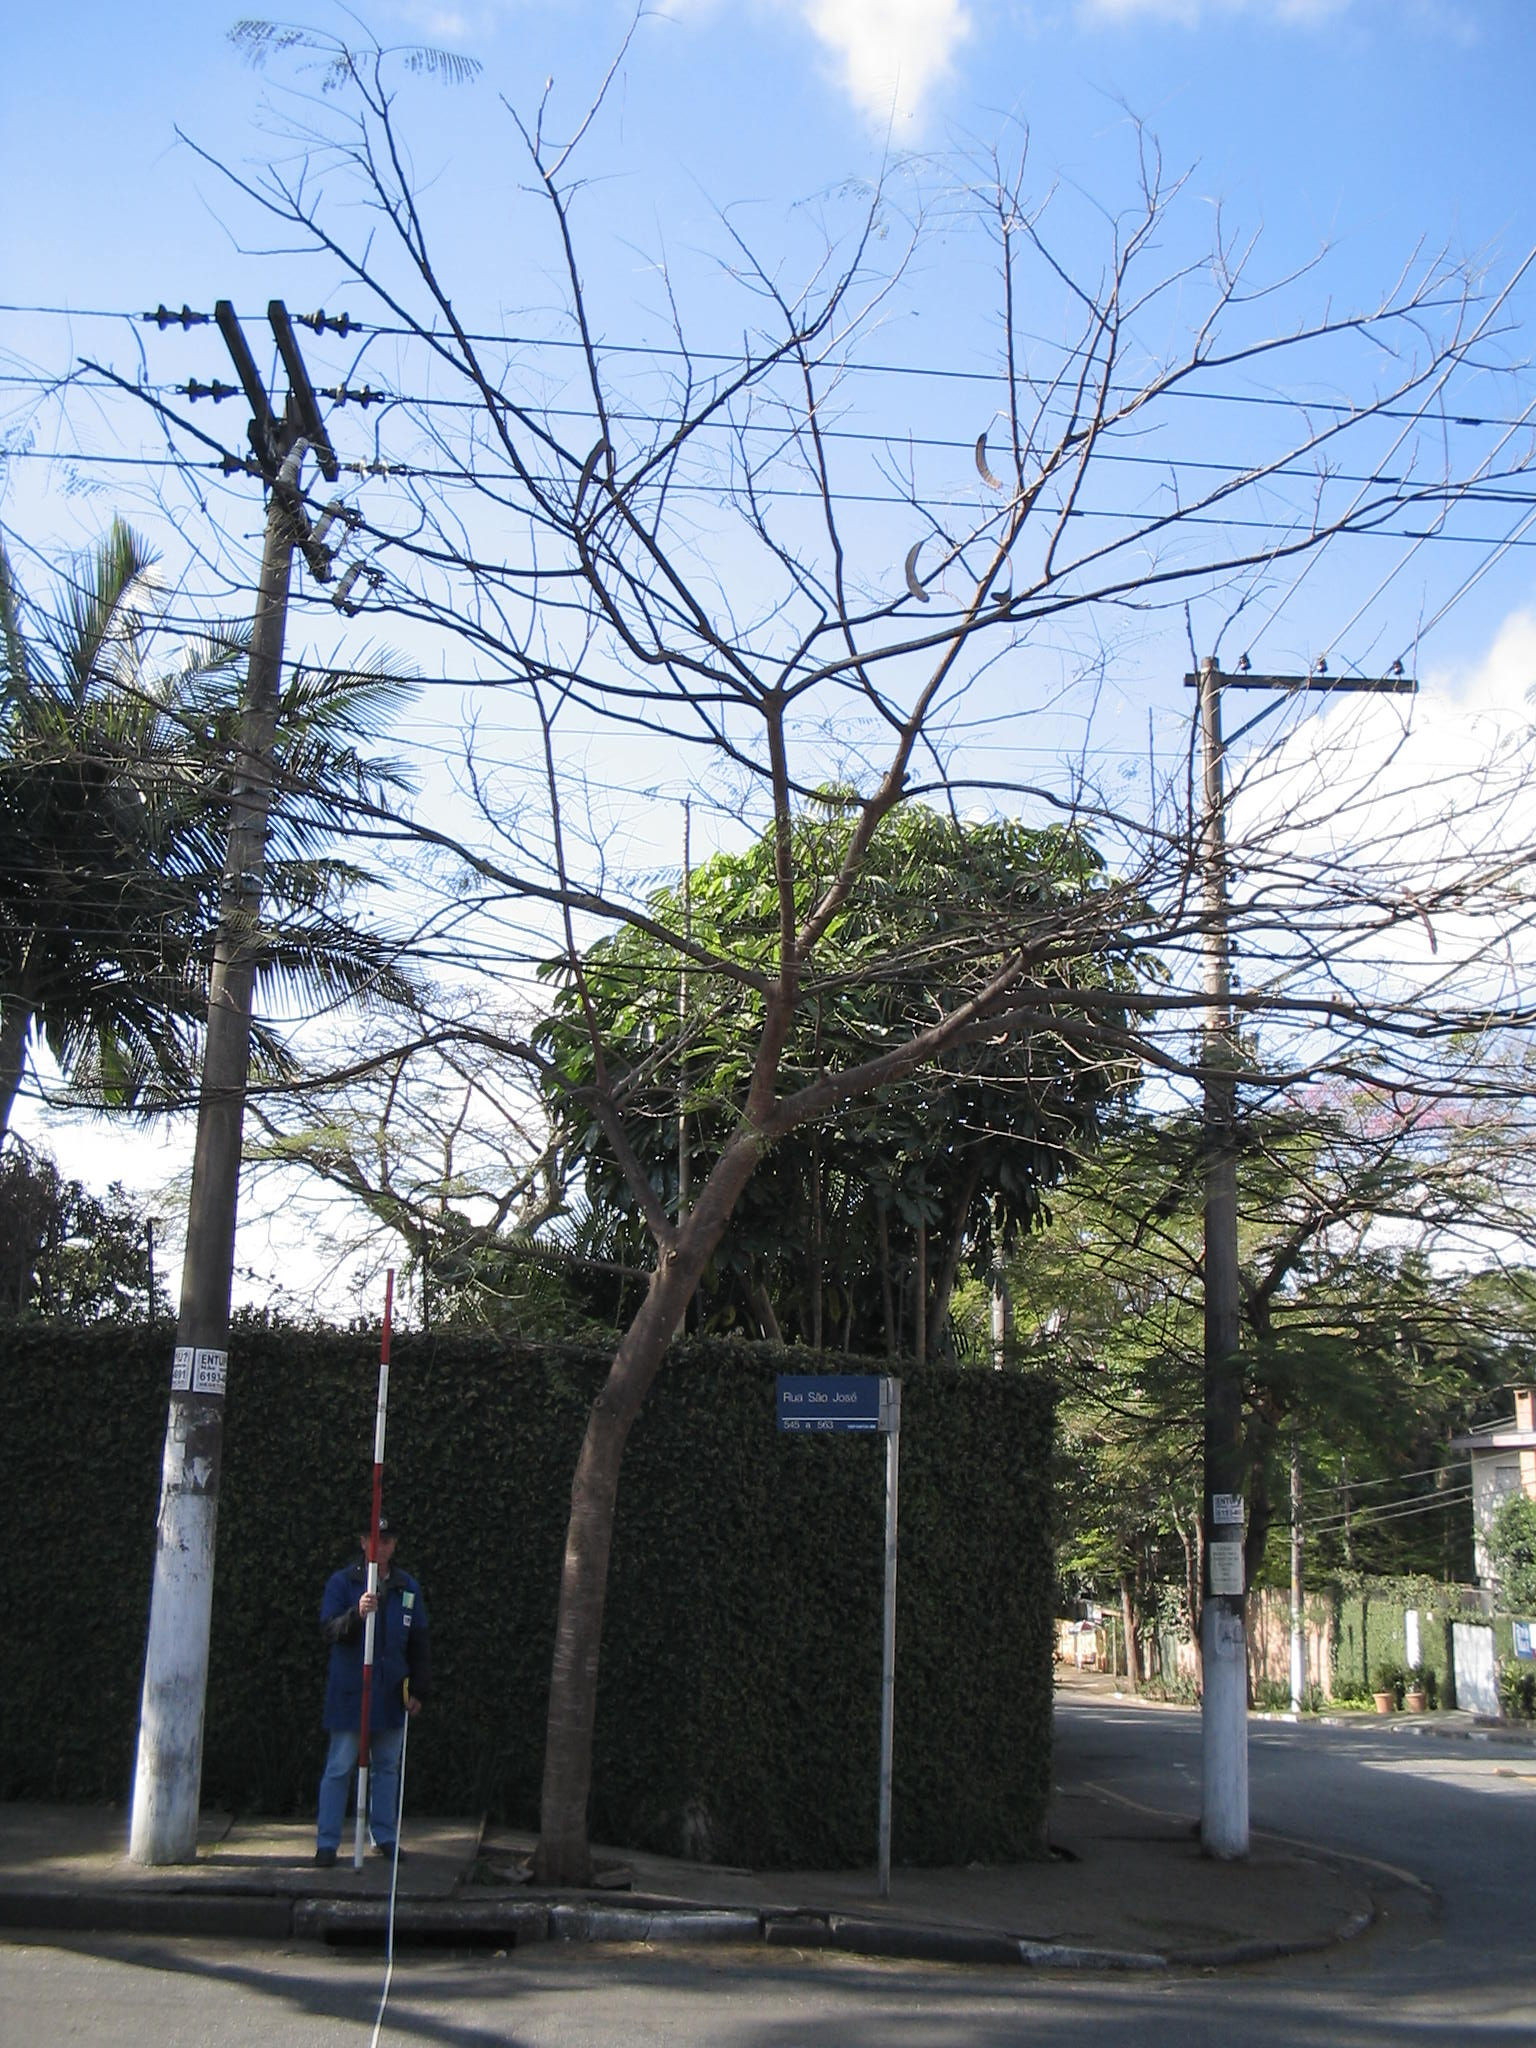stem: (524, 1264, 713, 1893)
stick: (349, 1272, 411, 1871)
tree: (11, 10, 1530, 1901)
